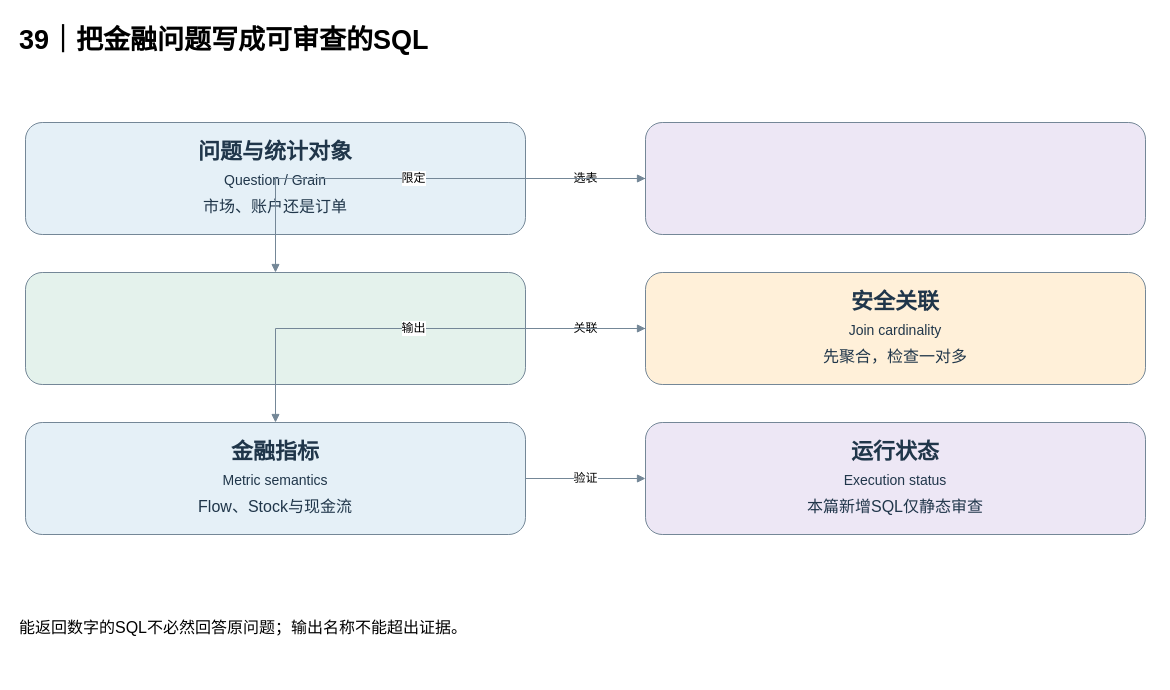
This 1170x690 diagram has some shape labels left out. The centre of each missing label's shape, as x and y in pixels:
"限定窗口 Time / Partitions UTC与分区过滤" belongs at (275,328).
"验证输入 Verified schema 字段、单位与来源" belongs at (895,178).
